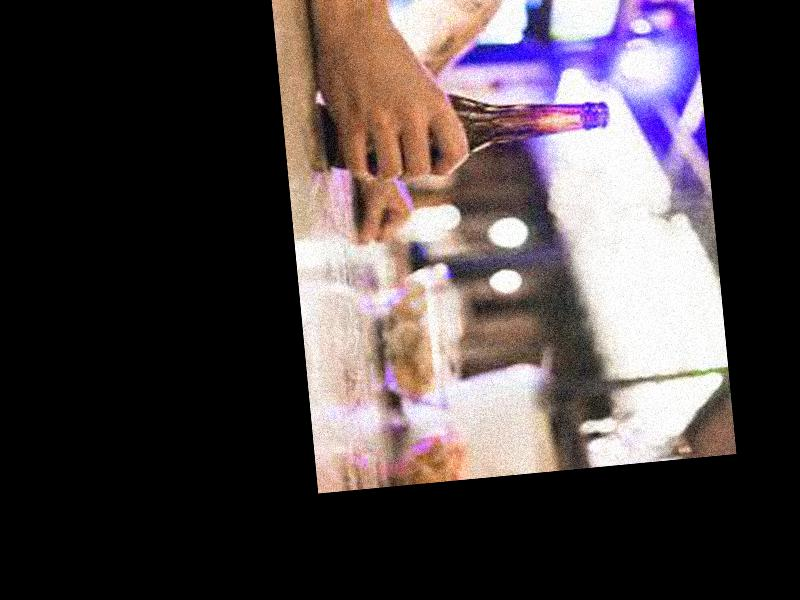Beer: (322, 80, 612, 169)
